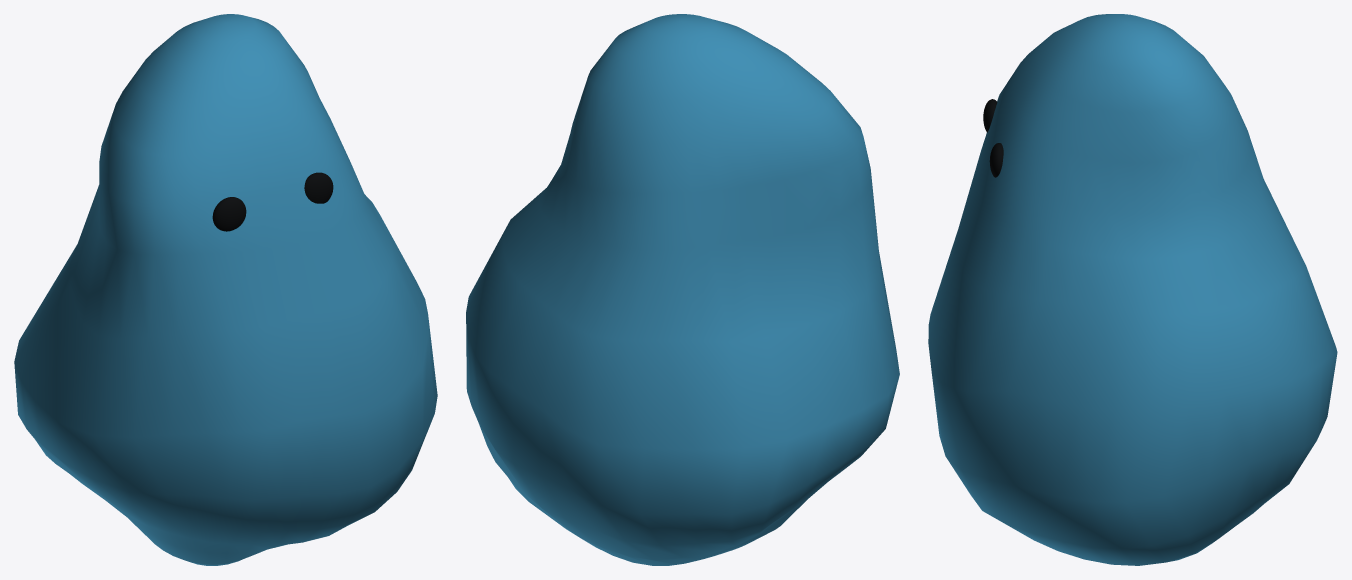
File: occupant-blob.glb
3 views of the same model, side by side, from view 1: azimuth 30°, elevation 25°; view 2: azimuth 150°, elevation 25°; view 3: azimuth 270°, elevation 25° (orthographic).
Visible parts, largest first — view 1: Blob_Body, Eye_Left, Eye_Left.001; view 2: Blob_Body; view 3: Blob_Body.
Part boxes in pixels (bbox=[...]): Blob_Body: bbox=[14, 14, 437, 565]; Eye_Left: bbox=[212, 197, 246, 231]; Eye_Left.001: bbox=[304, 172, 333, 203]; Blob_Body: bbox=[466, 14, 899, 565]; Blob_Body: bbox=[928, 14, 1337, 565].
Bounding box in the file's own units: 2.12 × 2.76 × 1.98.
